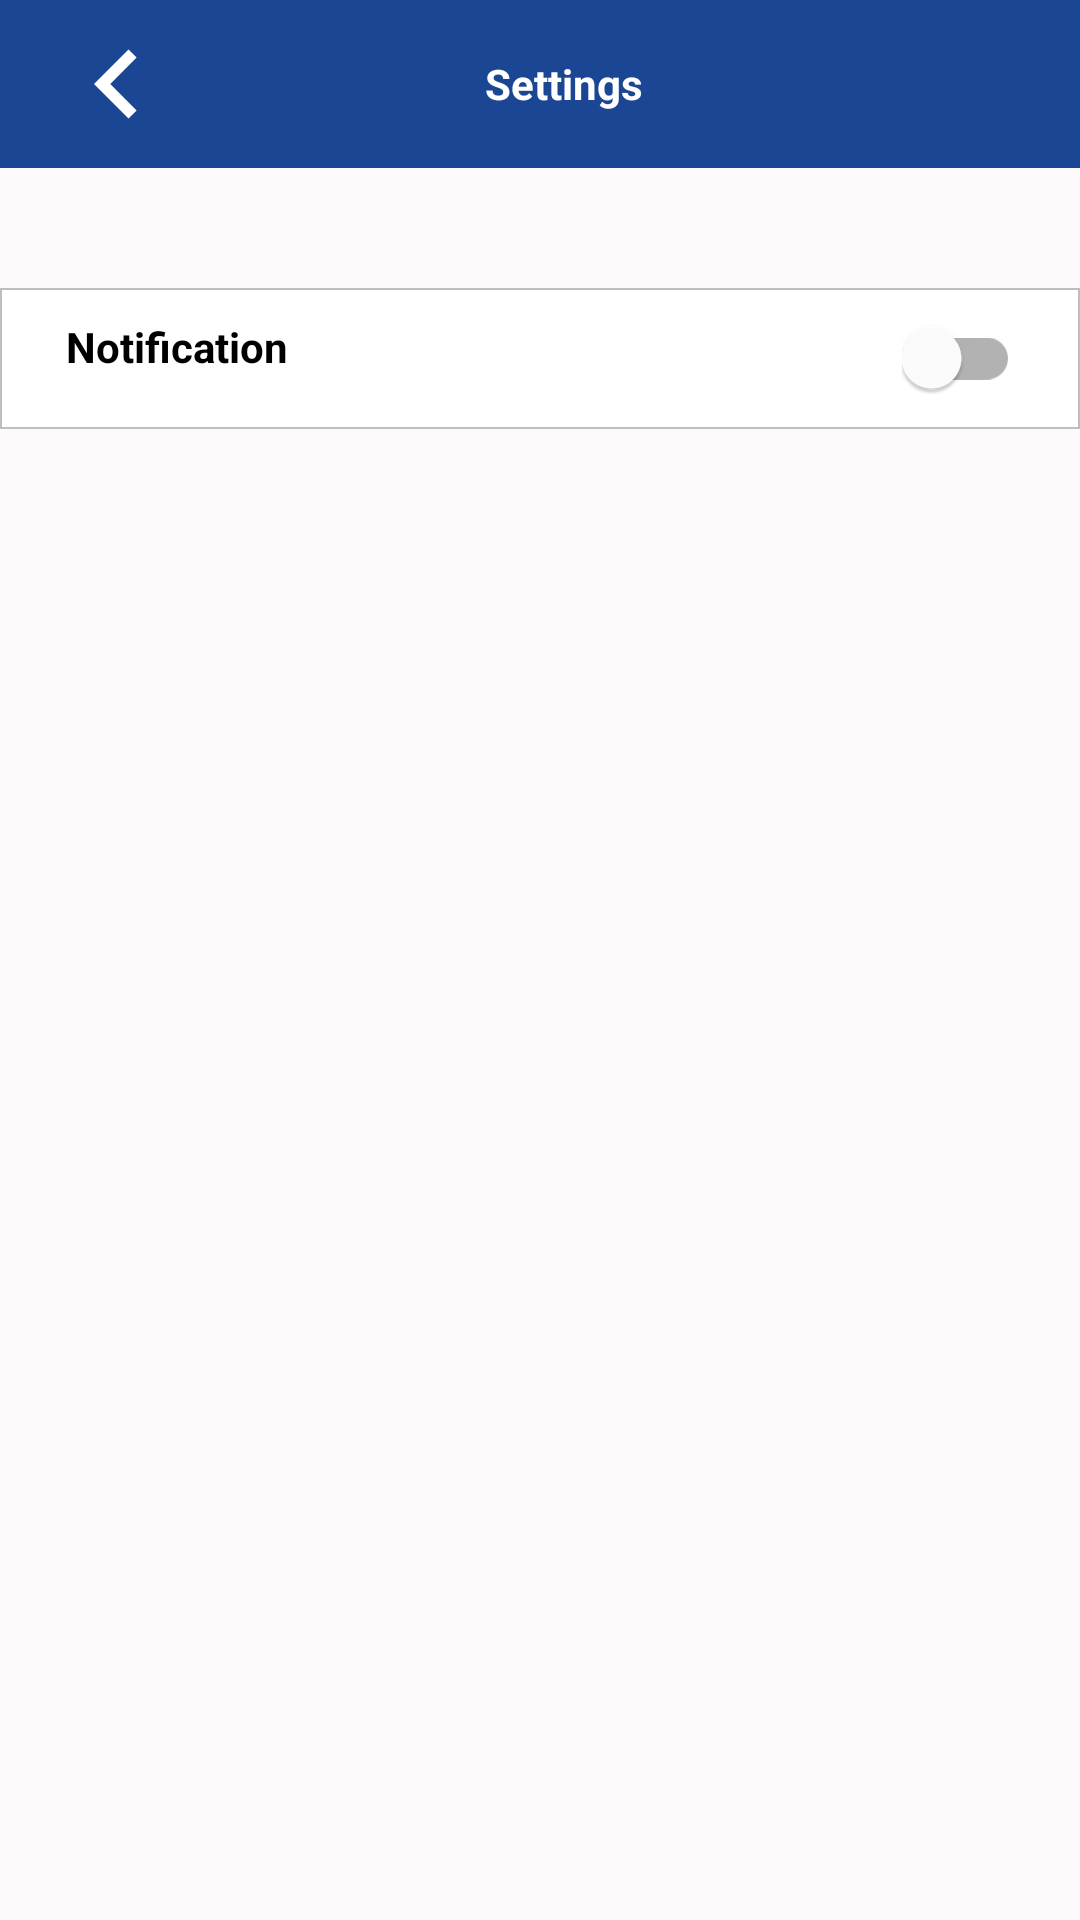

Icons on this 1080x1920 Android screen, each with its box as (x1=x1, y1=y1, x2=x2, y2=y2):
arrow left: (x1=94, y1=49, x2=137, y2=119)
